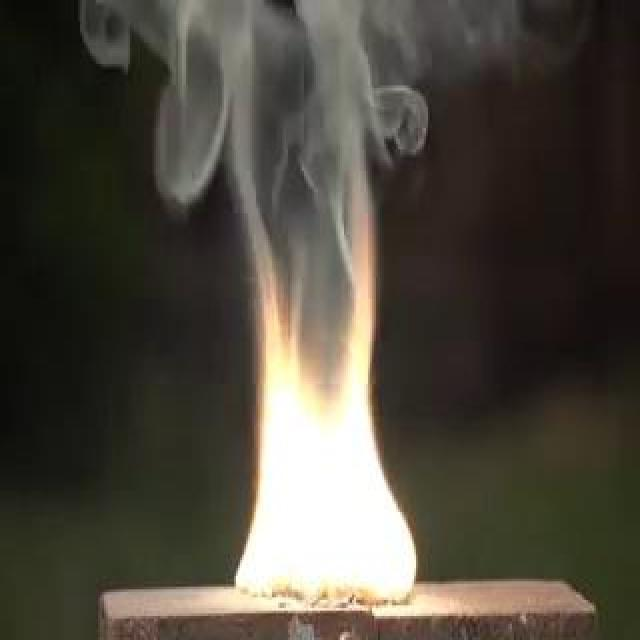Fire: (236, 320, 424, 607)
Smoke: (110, 5, 507, 292)
